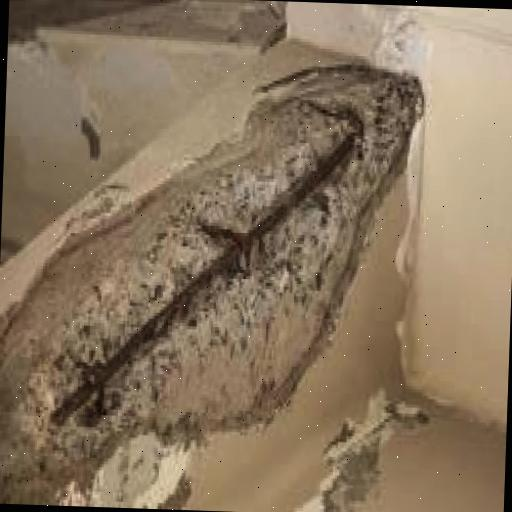spalling: (0, 60, 423, 505)
